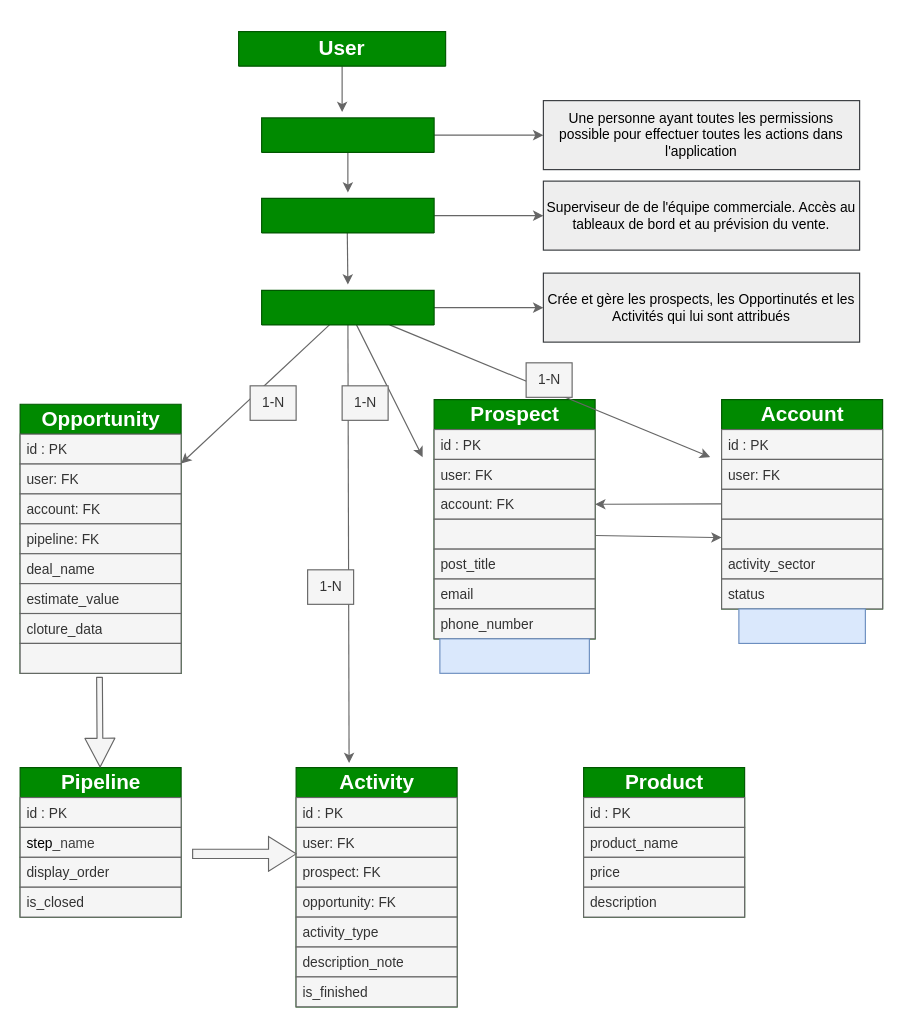
The diagram is 903 pixels wide and 1030 high, and some of its shapes have lost their labels. The centre of each missing label's shape, as x and y in pixels:
"address" goes at (801,533).
"Administrateur" goes at (347,134).
"Commerciale" goes at (347,307).
"company_name" goes at (801,503).
"full_name" goes at (514,533).
"Manager" goes at (347,215).
"Personne morale" goes at (801,625).
"Personne physique" goes at (514,655).
"probability_purcent" goes at (100,657).
